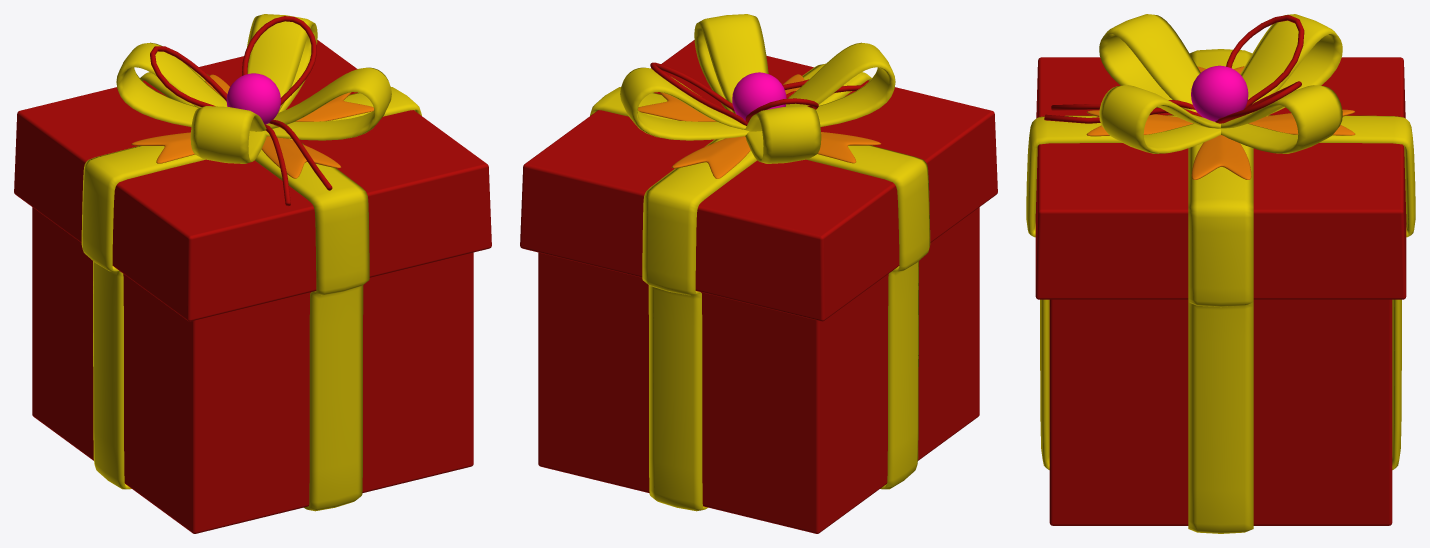
Rendered from present.fbx.
3 views of the same model, side by side, from view 1: azimuth 30°, elevation 25°; view 2: azimuth 150°, elevation 25°; view 3: azimuth 270°, elevation 25° (orthographic). The views are drawn at different scales.
Parts seen in each view (by area): view 1: Giftbox01, Giftbox02, Giftbox03, Giftbox04, Giftbox05, Giftbox06; view 2: Giftbox01, Giftbox02, Giftbox03, Giftbox04, Giftbox05, Giftbox06; view 3: Giftbox01, Giftbox02, Giftbox03, Giftbox04, Giftbox05, Giftbox06.
Part boxes in pixels (x1,y1,x2,y2): Giftbox01: (14, 40, 491, 533); Giftbox02: (81, 67, 421, 511); Giftbox03: (116, 14, 391, 163); Giftbox04: (131, 74, 373, 178); Giftbox05: (150, 16, 332, 206); Giftbox06: (226, 73, 280, 124); Giftbox01: (520, 40, 997, 533); Giftbox02: (590, 63, 930, 511); Giftbox03: (620, 14, 895, 163); Giftbox04: (638, 74, 881, 178); Giftbox05: (650, 62, 864, 125); Giftbox06: (732, 72, 786, 120); Giftbox01: (1035, 57, 1406, 525); Giftbox02: (1026, 49, 1415, 533); Giftbox03: (1099, 14, 1342, 153); Giftbox04: (1086, 66, 1355, 179); Giftbox05: (1044, 15, 1304, 123); Giftbox06: (1191, 65, 1248, 121).
Size of the model in its own units: 227 by 266 by 227.
